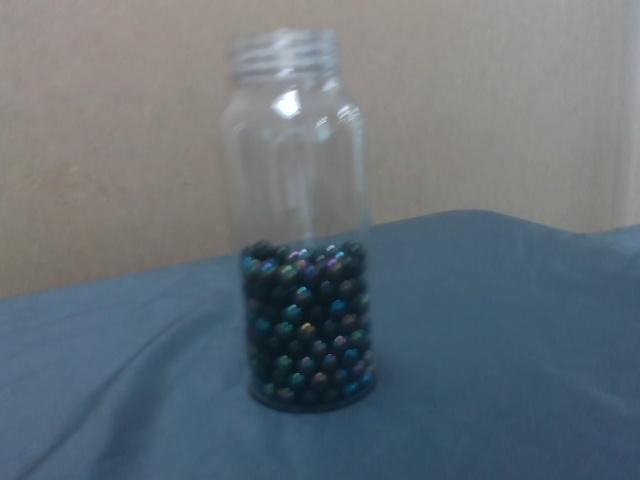black_bottle: (237, 239, 378, 412)
